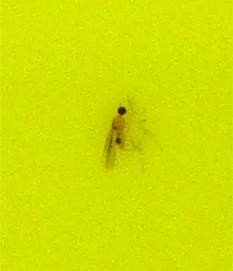Brachycera: (100, 100, 133, 171)
